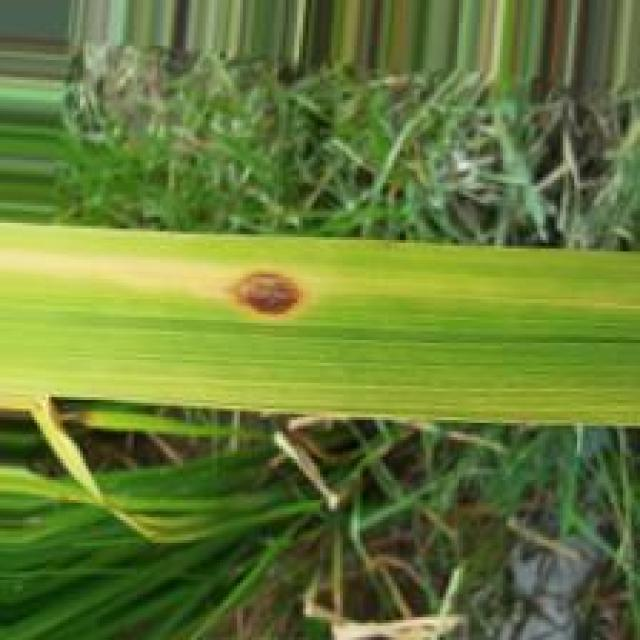Brown_Spot: (221, 270, 306, 319)
